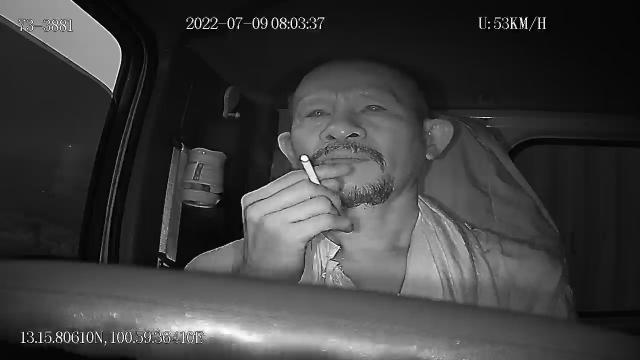SafeDriving: (354, 93, 394, 120), (296, 100, 336, 126)
Smoking: (299, 153, 321, 185)
